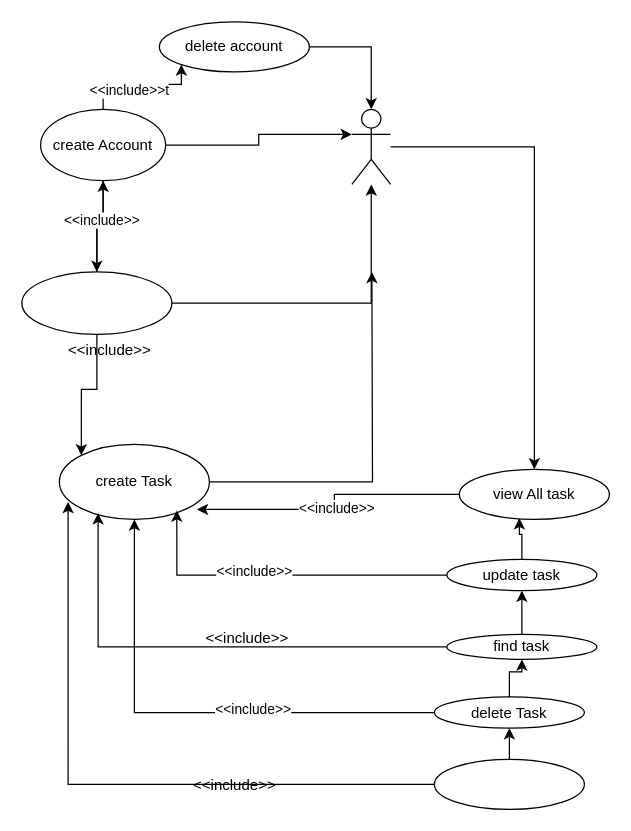
This 631x831 diagram has some shape labels left out. The shapes that lost their labels are listed below. From the top down, each one's box as (x1, y1, x2, y2) in pixels, then its label:
(351, 108, 391, 184): User
(21, 271, 172, 334): LoginAccount
(433, 758, 584, 809): view Task
